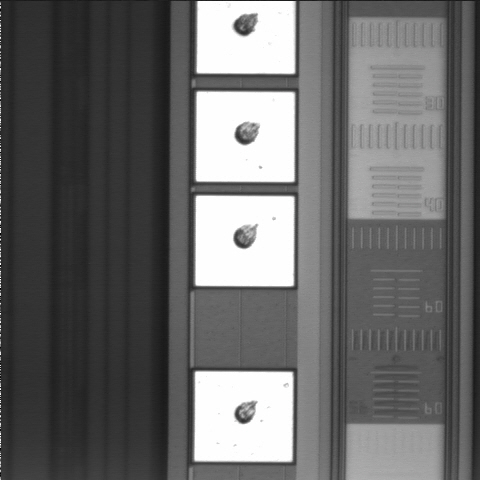pad: (194, 371, 293, 462), (196, 92, 295, 182), (195, 196, 294, 286)
